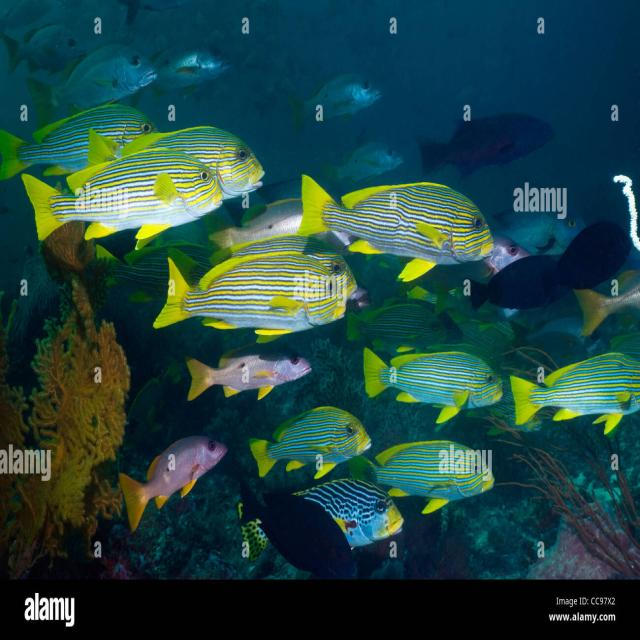RibbonedSweetlips: (21, 146, 223, 252), (297, 174, 494, 282), (151, 251, 345, 335), (81, 124, 265, 200), (0, 102, 161, 182), (348, 439, 496, 514), (509, 352, 640, 434), (362, 348, 502, 424), (248, 406, 372, 480)
